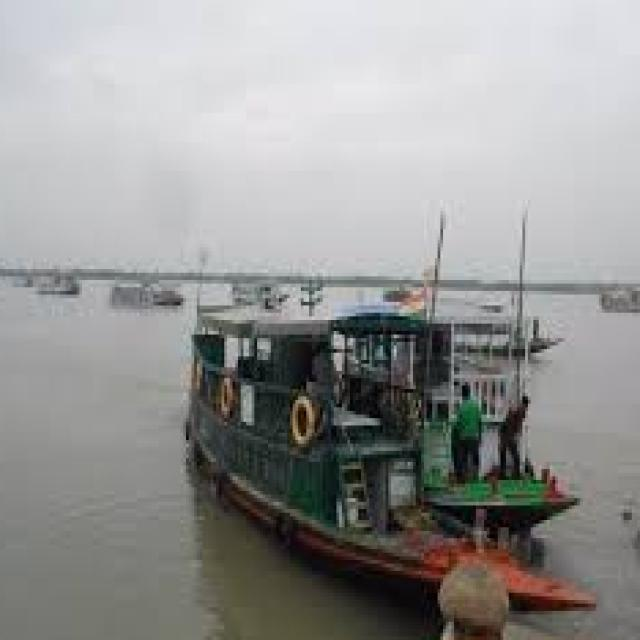houseboat: (136, 221, 597, 630)
